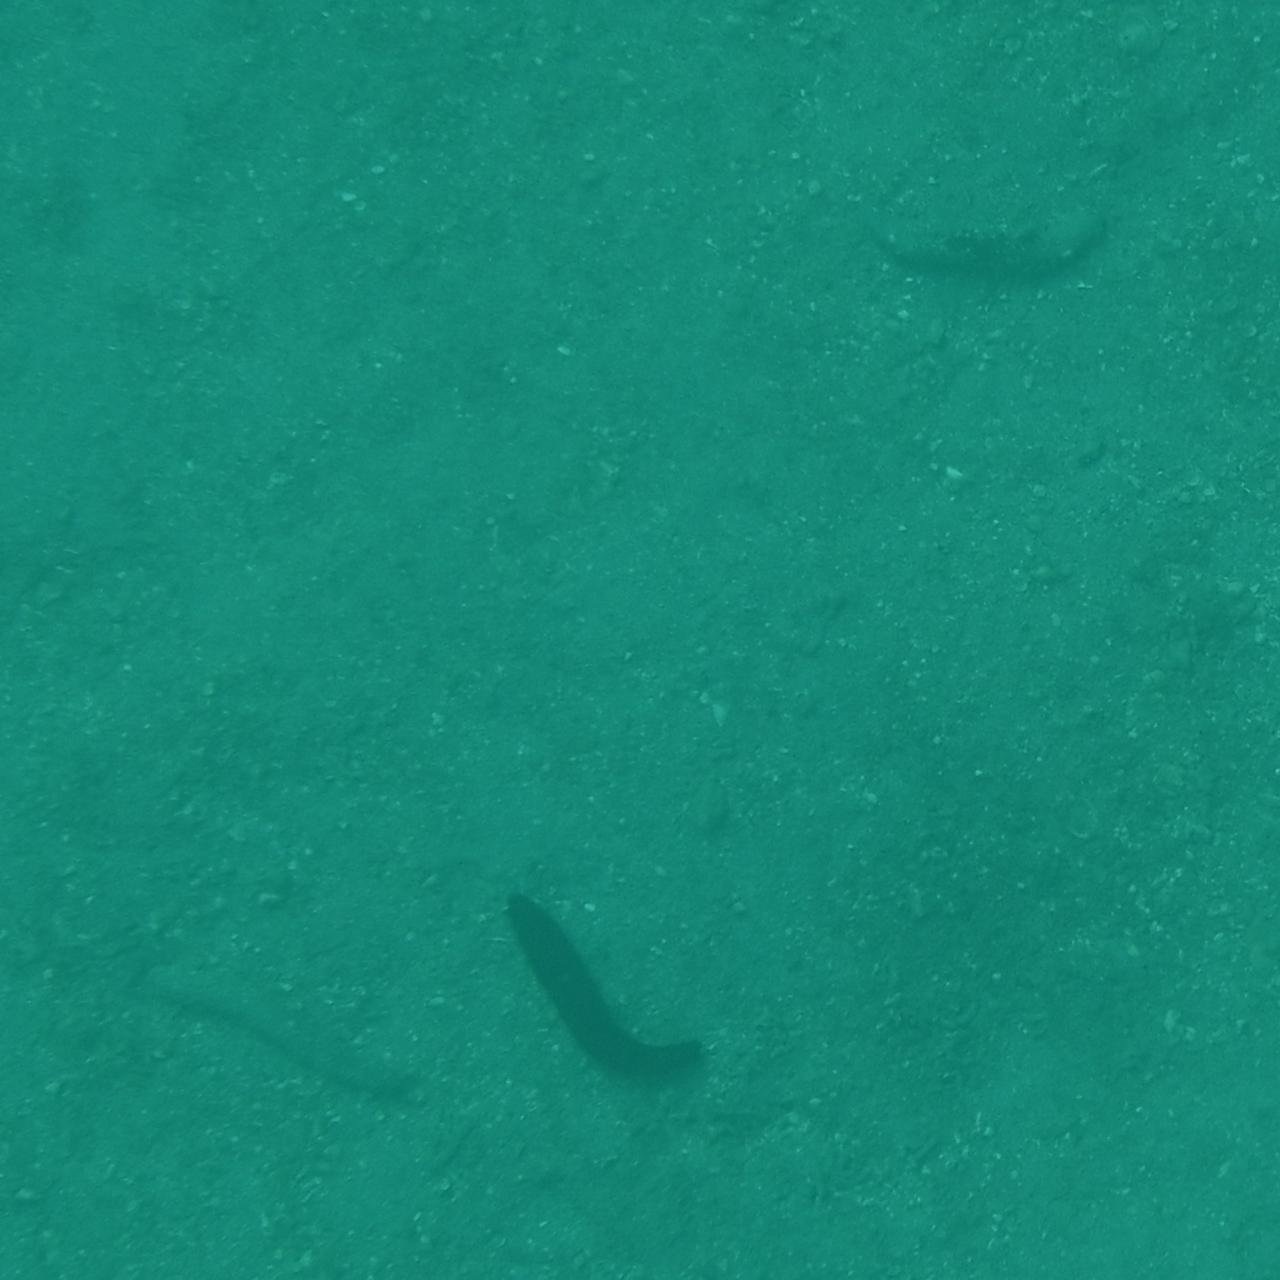Holothuria tubulosa: (471, 876, 712, 1089), (137, 964, 421, 1118), (858, 196, 1146, 284)
